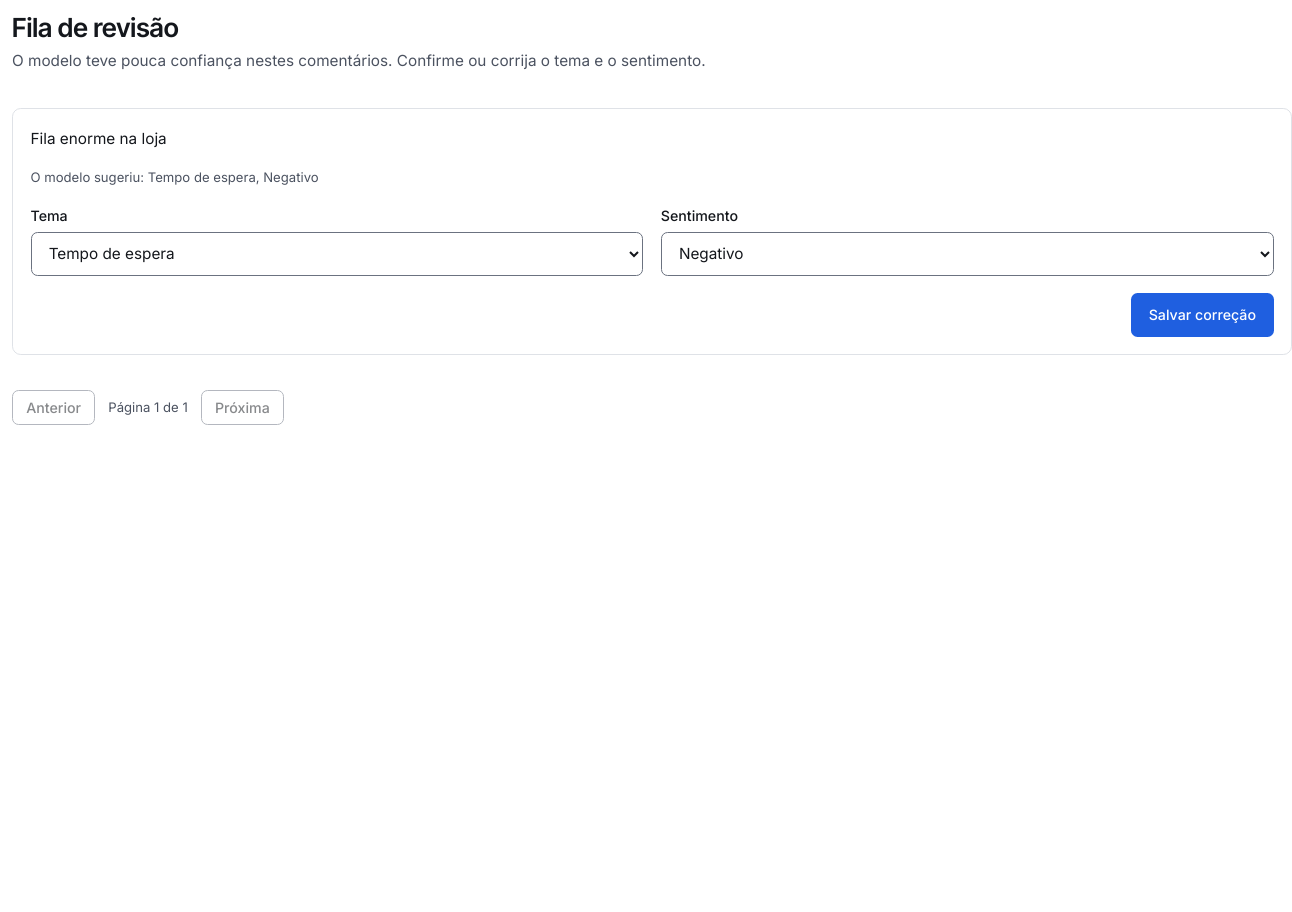
FilaDeRevisaoPage › corrige tema e sentimento, grava a correção e o comentário sai da fila
Select "Atendimento" in the dropdown labelled "Tema". click: (337, 254)
box: x1=30 y1=232 x2=643 y2=276
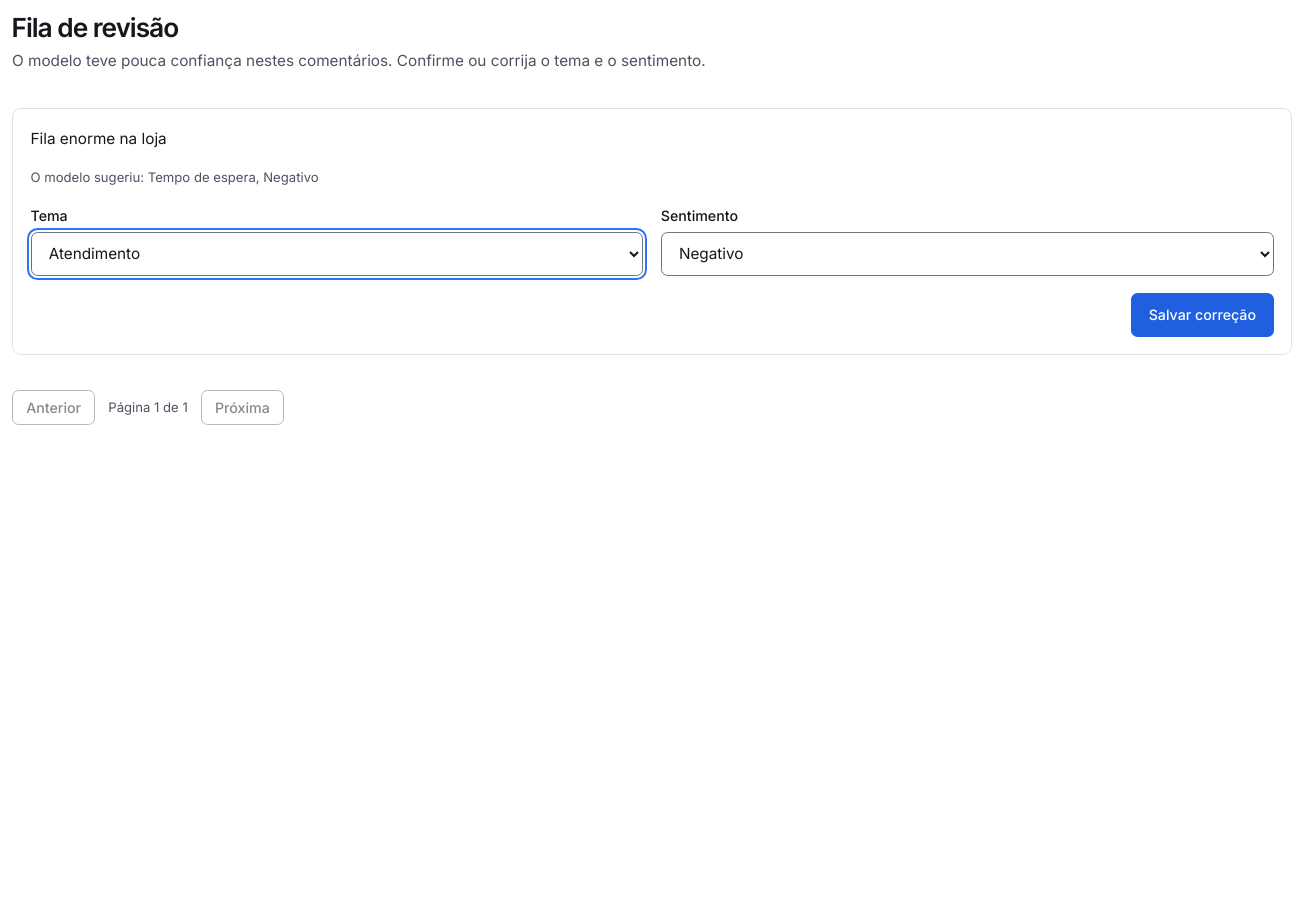
Select "Misto" in the dropdown labelled "Sentimento". click: (967, 254)
box: x1=661 y1=232 x2=1274 y2=276
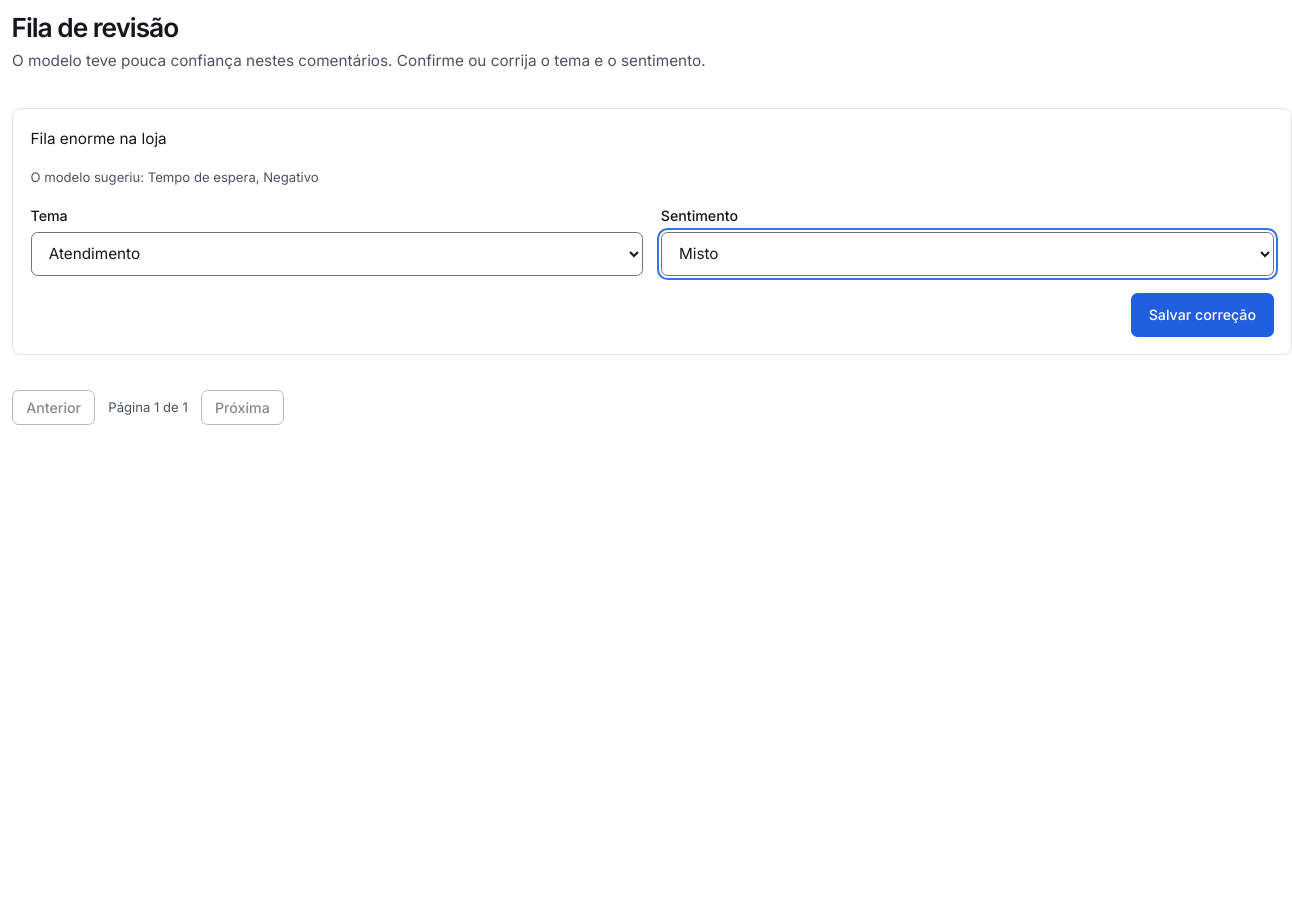
Click the button "Salvar correção". click: click(1202, 315)
box: x1=1131 y1=293 x2=1274 y2=337
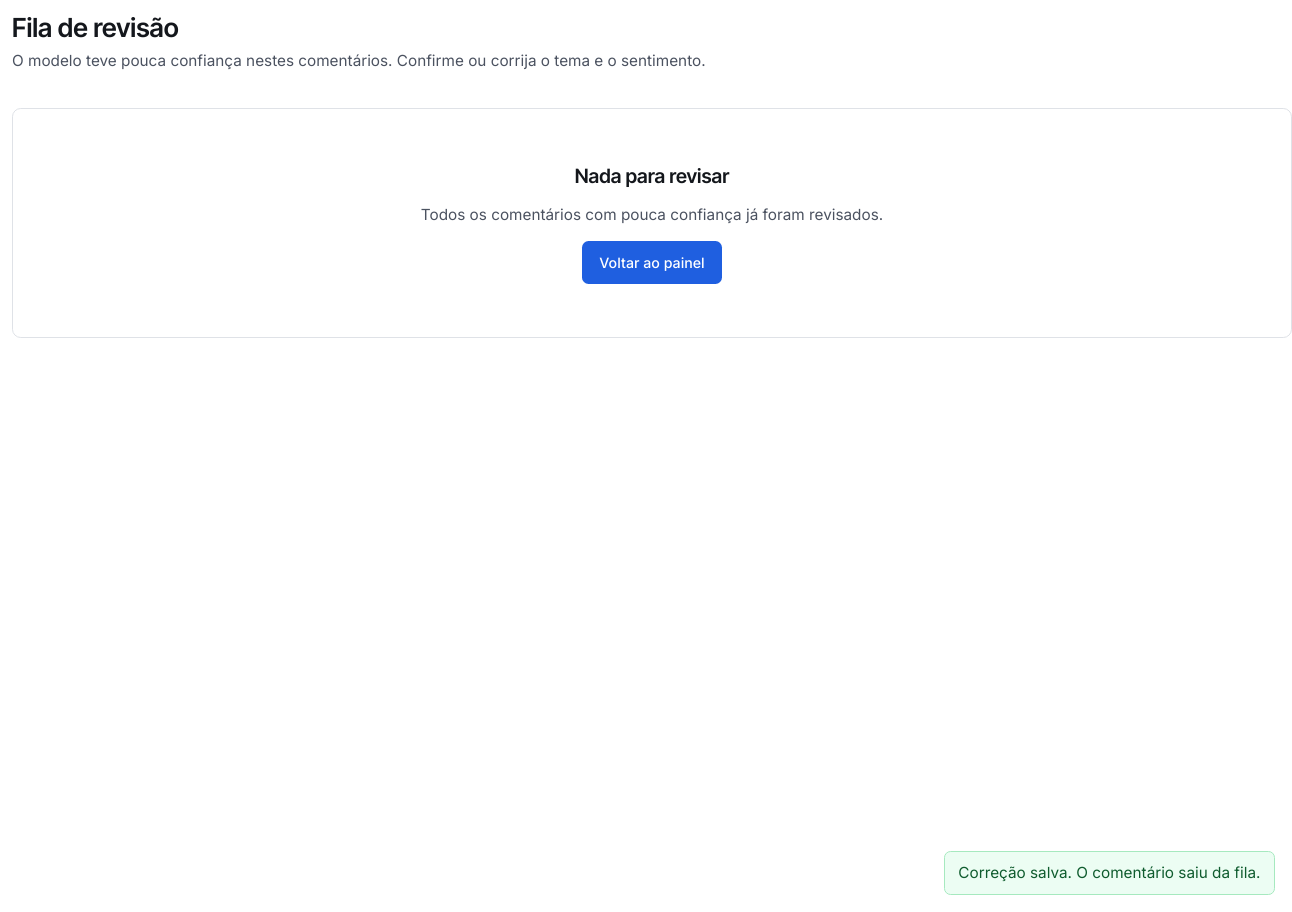
Check: the heading "Nada para revisar" is shown, box x1=575 y1=162 x2=729 y2=190
Check: the text "Correção salva. O comentário saiu da fila." is shown, box x1=944 y1=851 x2=1274 y2=894
